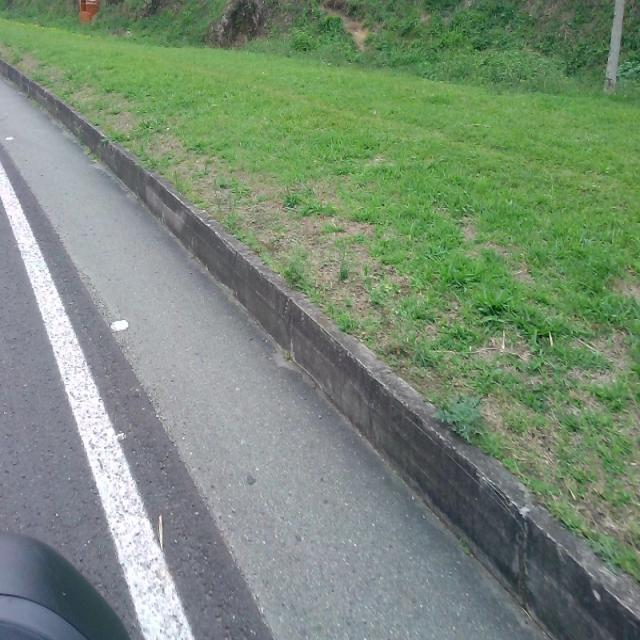DITCH: (2, 1, 638, 638), (1, 7, 638, 638), (1, 56, 638, 638)
